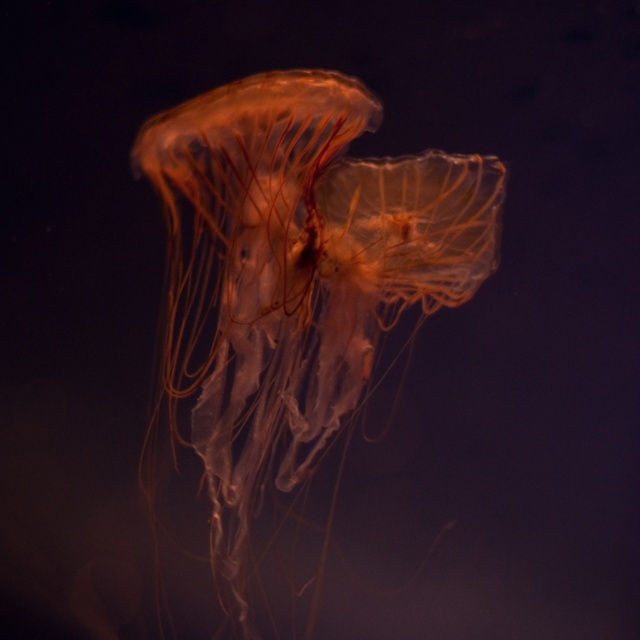Jellyfish: (119, 45, 518, 636)
